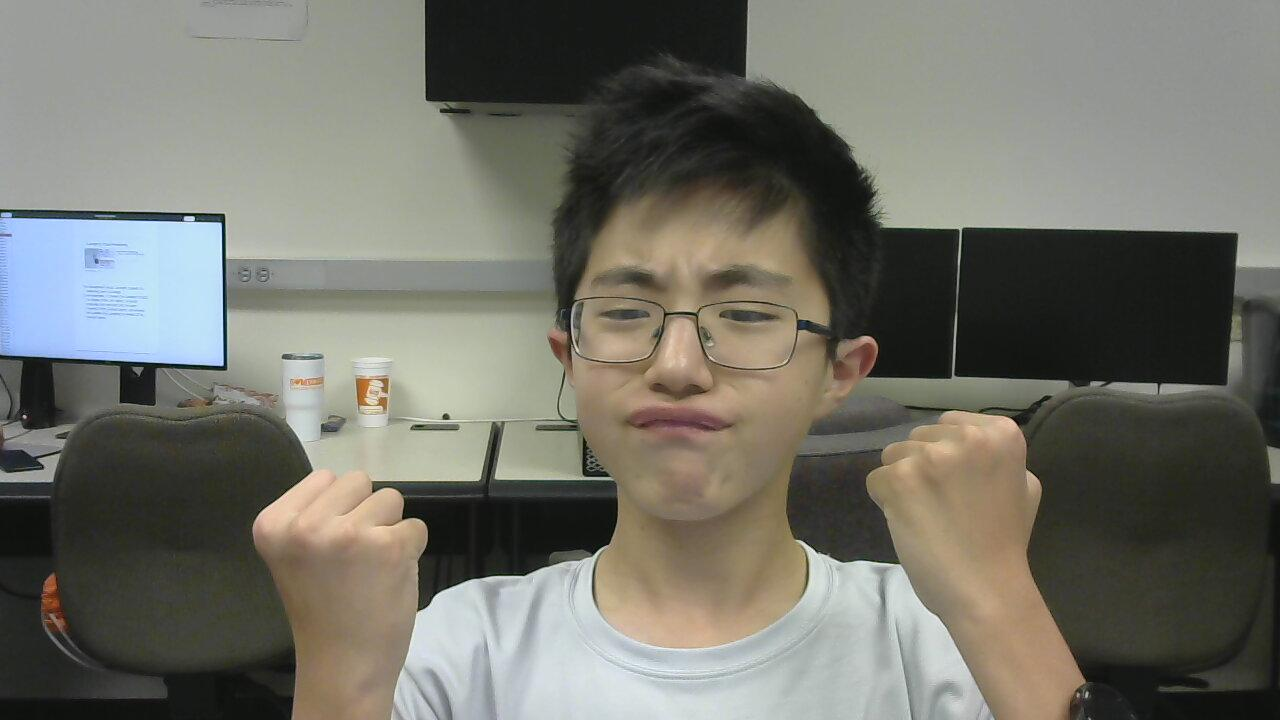fist: (238, 457, 474, 671), (863, 397, 1080, 608)
